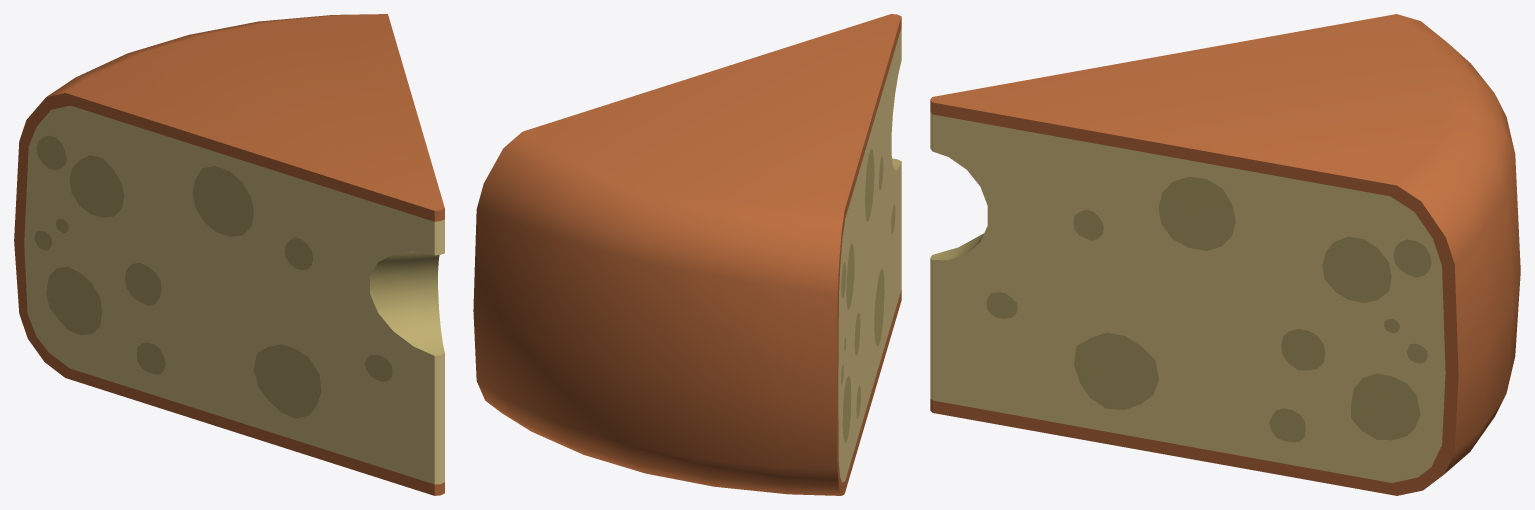
Rendered from Cheese.fbx.
3 renders of one model, left to right at view 1: azimuth 30°, elevation 25°; view 2: azimuth 150°, elevation 25°; view 3: azimuth 270°, elevation 25°, orthographic. The views are drawn at different scales.
Parts seen in each view (by area): view 1: Cheese; view 2: Cheese; view 3: Cheese.
Part boxes in pixels (x1=…): Cheese: x1=14, y1=14, x2=444, y2=495; Cheese: x1=473, y1=14, x2=901, y2=495; Cheese: x1=930, y1=14, x2=1520, y2=495.
Size of the model in its own units: 30.17 by 22.49 by 38.78.
